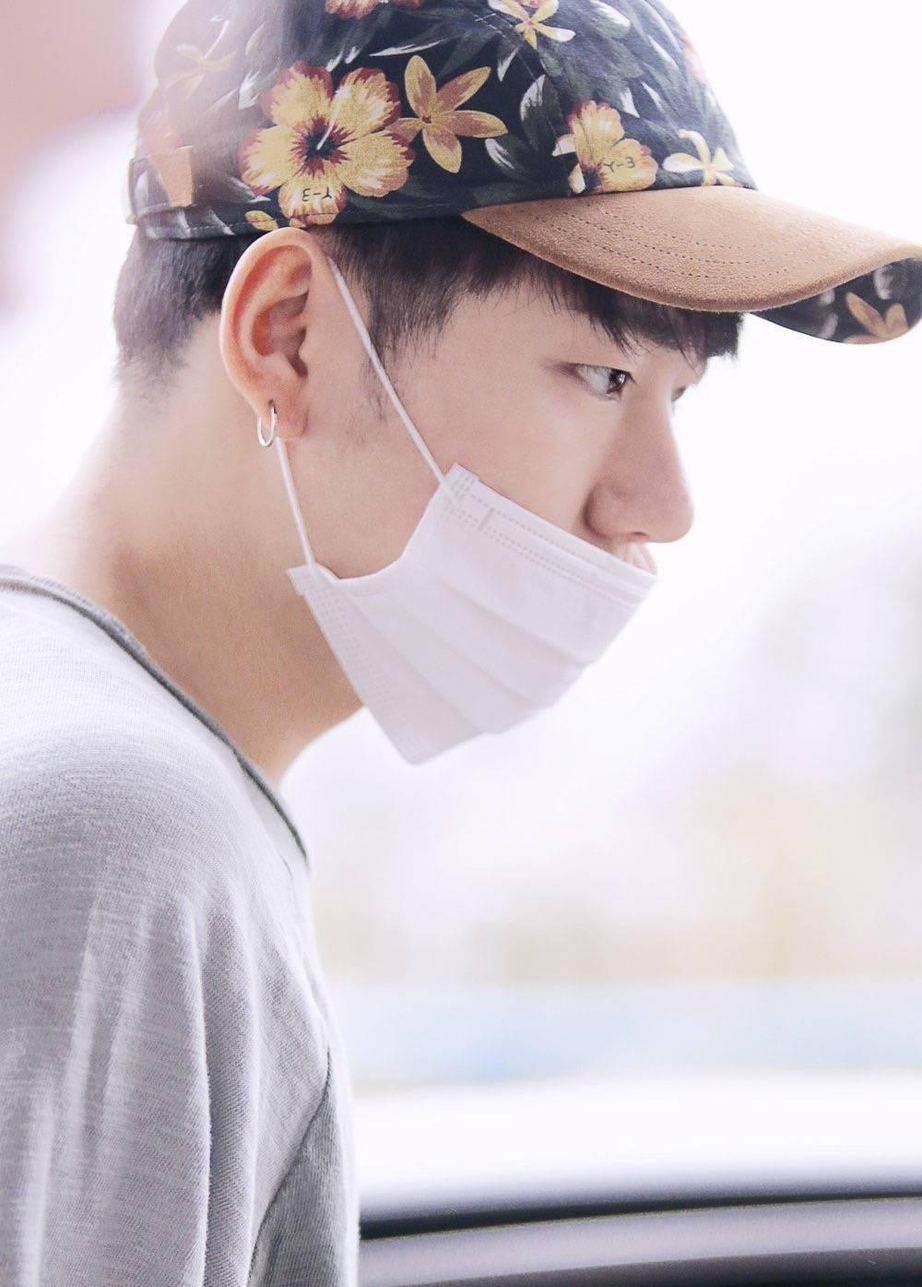WRONG: (237, 260, 715, 739)
